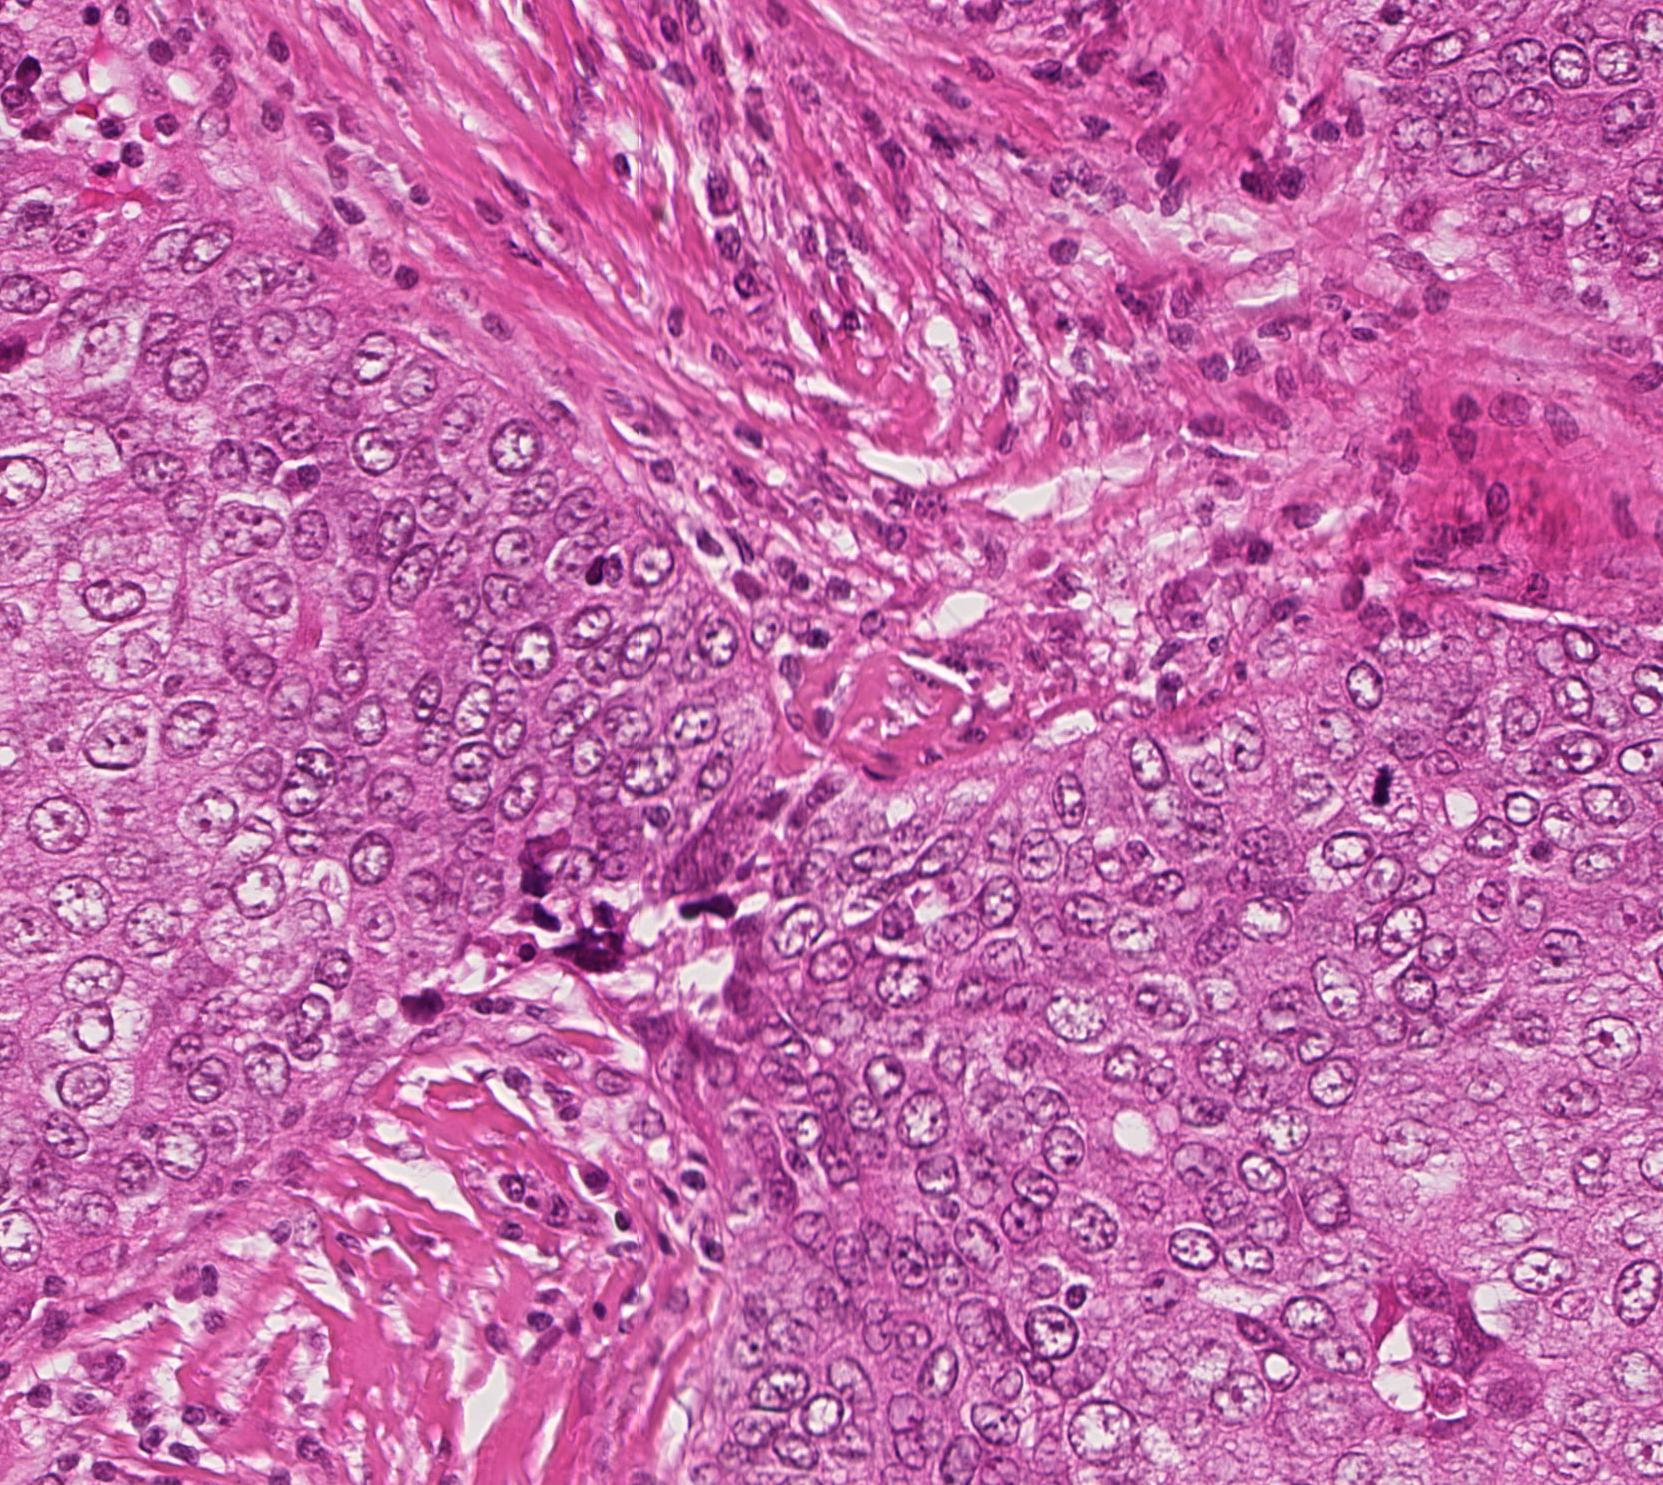mitosis: (1356, 758, 1416, 818)
